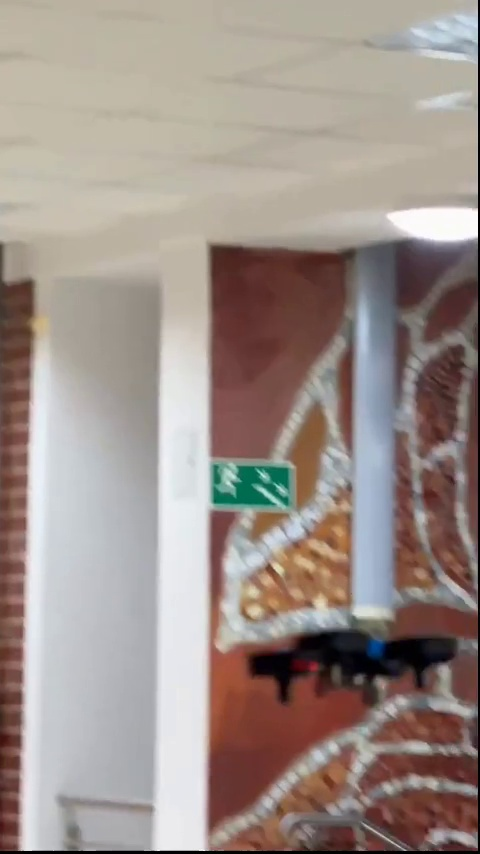drone: (239, 627, 464, 701)
